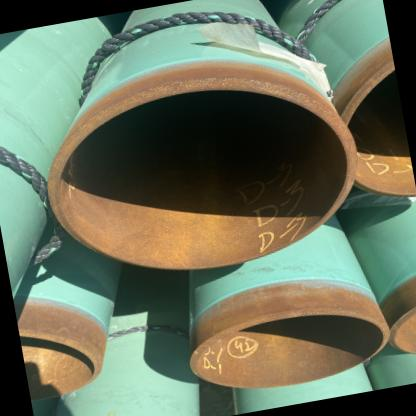clean: (130, 61, 210, 119)
